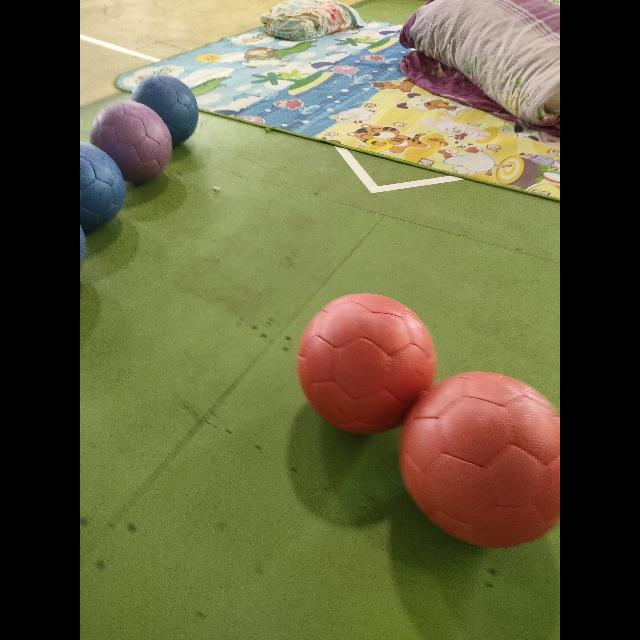B: (132, 74, 198, 146), (80, 143, 124, 231)
P: (90, 101, 172, 183)
R: (400, 372, 560, 548), (298, 294, 434, 434)
